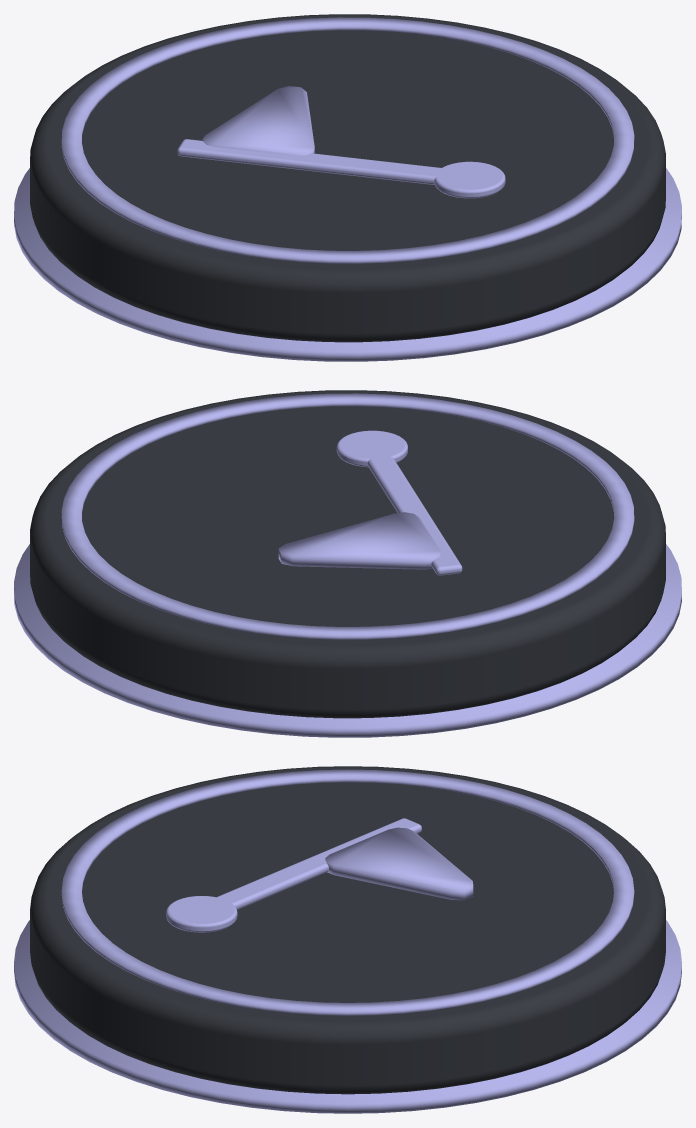
File: end.glb
3 views of the same model, one above another, from view 1: azimuth 30°, elevation 25°; view 2: azimuth 150°, elevation 25°; view 3: azimuth 270°, elevation 25° (orthographic).
Parts seen in each view (by area): view 1: module, edge, rim, flag, line, dot; view 2: module, edge, rim, flag, line, dot; view 3: module, edge, rim, flag, line, dot.
Part boxes in pixels (x1,y1,x2,y2): module: (30,14,665,342); edge: (61,17,634,263); rim: (14,168,681,361); flag: (202,86,314,155); line: (177,139,479,184); dot: (434,161,505,198); module: (30,390,665,718); edge: (61,393,634,639); rim: (14,544,681,737); flag: (278,512,440,569); line: (361,441,462,575); dot: (336,430,407,467); module: (30,766,665,1094); edge: (61,769,634,1015); rim: (14,920,681,1113); flag: (325,827,473,900); line: (200,818,421,915); dot: (166,896,237,932).
Bounding box in the file's own units: 0.84 × 0.122 × 0.84.
